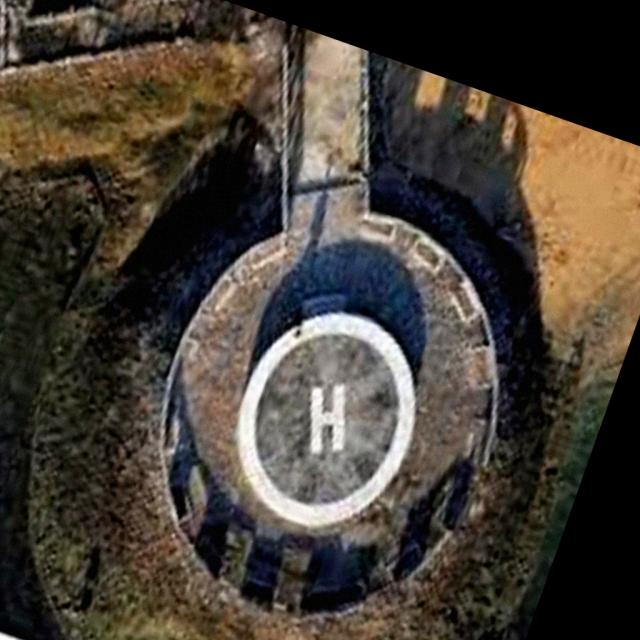helipad: (231, 309, 418, 529)
